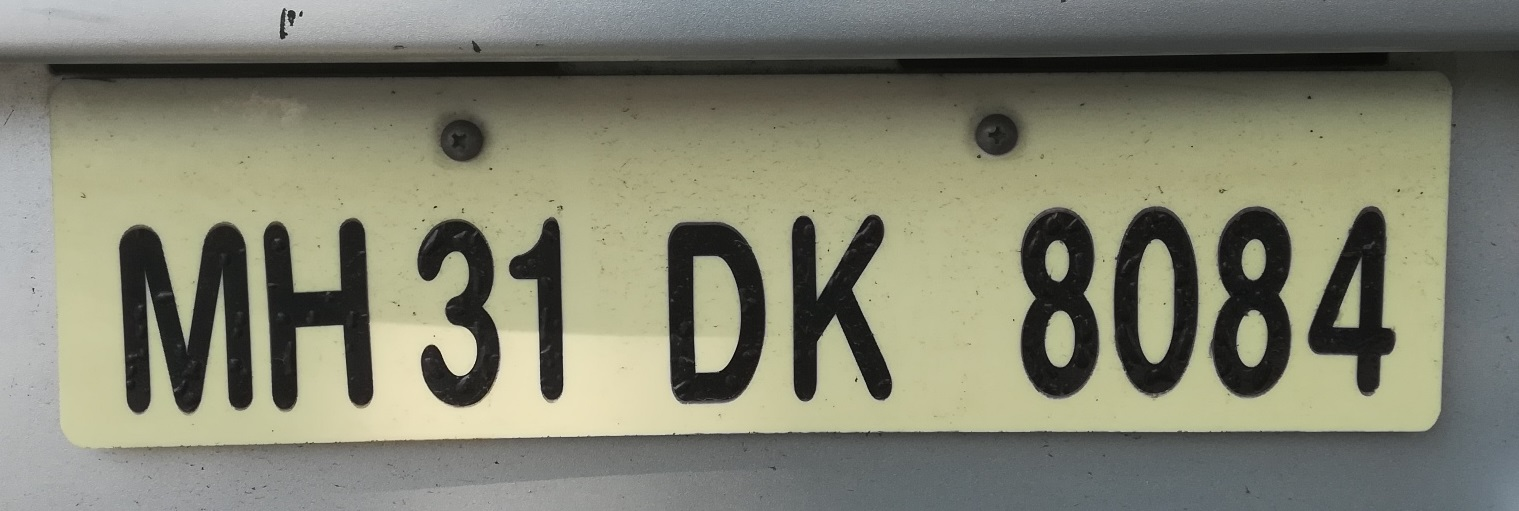numberplate: (42, 70, 1454, 440)
